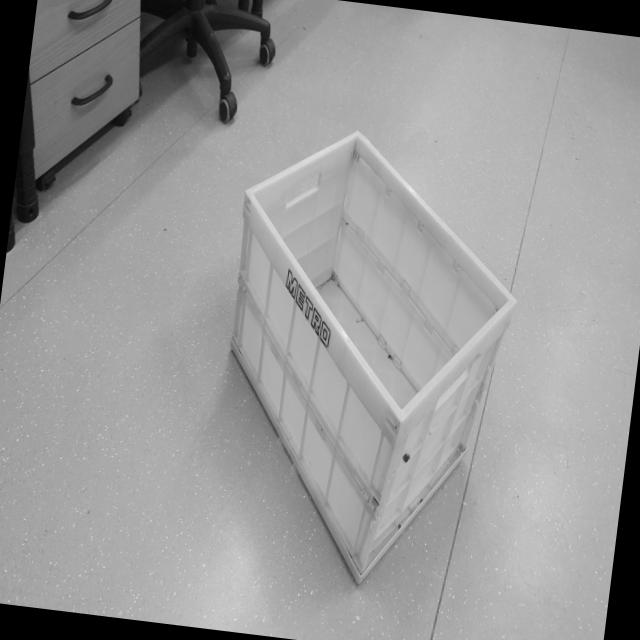box: (187, 106, 536, 615)
